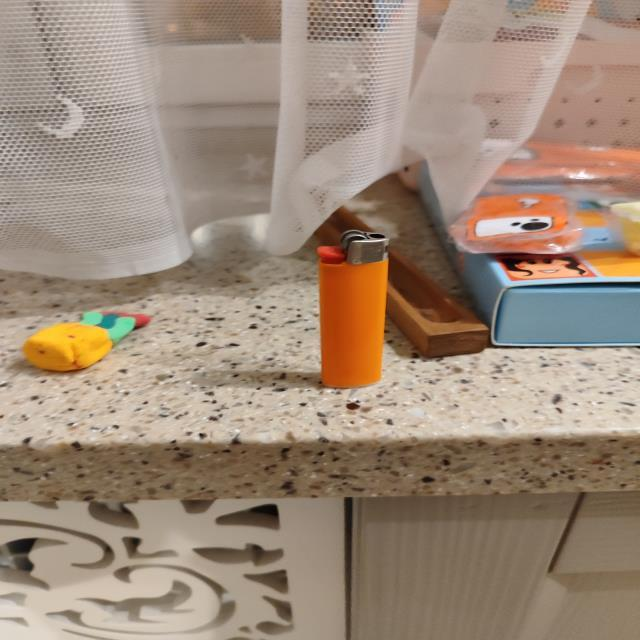lighter: (317, 230, 388, 388)
